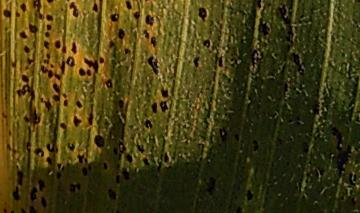tarspot: (330, 125, 352, 179), (274, 1, 296, 46), (16, 74, 36, 115), (286, 51, 305, 75), (249, 47, 265, 71), (82, 55, 101, 75), (39, 64, 60, 82), (256, 16, 271, 39), (146, 55, 161, 77), (201, 175, 216, 195), (32, 1, 45, 20), (51, 82, 62, 102), (27, 22, 39, 40), (32, 106, 42, 127), (197, 5, 208, 23), (87, 103, 95, 127), (347, 171, 358, 188), (93, 134, 105, 149), (68, 1, 79, 17), (134, 140, 145, 155), (117, 139, 128, 154), (15, 169, 24, 187), (218, 126, 228, 142), (65, 55, 77, 68), (39, 194, 49, 209), (121, 166, 131, 181), (116, 27, 126, 42), (37, 177, 46, 193), (29, 186, 38, 202), (106, 187, 118, 199), (216, 53, 225, 69), (33, 147, 45, 159), (43, 97, 52, 113), (159, 85, 170, 98), (68, 182, 81, 193), (159, 99, 169, 113), (72, 114, 82, 128), (70, 41, 79, 56), (45, 141, 56, 153), (201, 37, 211, 50), (12, 185, 20, 201), (245, 188, 254, 202), (250, 138, 259, 152), (301, 140, 310, 154), (145, 14, 154, 28), (109, 12, 120, 23), (131, 9, 141, 21), (104, 78, 114, 90), (192, 56, 201, 69), (58, 60, 67, 73), (150, 101, 158, 115), (144, 119, 154, 130), (141, 157, 151, 168), (124, 153, 134, 164), (66, 141, 76, 152), (2, 8, 12, 19), (149, 36, 158, 48), (142, 28, 151, 40), (107, 37, 116, 49), (22, 43, 31, 55), (114, 173, 122, 186), (91, 1, 99, 14), (42, 52, 50, 65), (59, 122, 69, 132), (27, 204, 38, 213), (45, 13, 54, 24), (116, 98, 125, 109), (282, 80, 289, 94), (162, 151, 170, 163), (19, 30, 28, 40), (42, 40, 51, 50), (77, 67, 86, 77), (76, 153, 84, 164), (75, 99, 83, 110), (19, 2, 27, 13), (53, 40, 62, 49), (234, 205, 244, 213), (349, 196, 357, 206), (45, 156, 53, 166), (23, 114, 31, 124), (98, 55, 106, 65), (62, 98, 70, 108), (25, 57, 35, 65), (10, 59, 18, 69), (25, 140, 32, 151), (1, 109, 8, 120), (81, 165, 87, 177), (54, 171, 62, 180), (123, 46, 131, 55), (102, 161, 109, 171), (111, 146, 118, 156), (60, 45, 68, 53), (6, 129, 14, 137), (45, 23, 52, 32), (13, 10, 20, 19), (125, 1, 132, 10), (55, 162, 62, 171), (86, 68, 92, 78), (234, 132, 240, 142), (18, 206, 26, 213), (44, 31, 51, 39), (338, 194, 345, 201), (12, 147, 19, 154), (115, 162, 121, 170), (5, 143, 11, 151), (45, 1, 57, 4), (8, 209, 16, 213), (49, 62, 54, 68)
